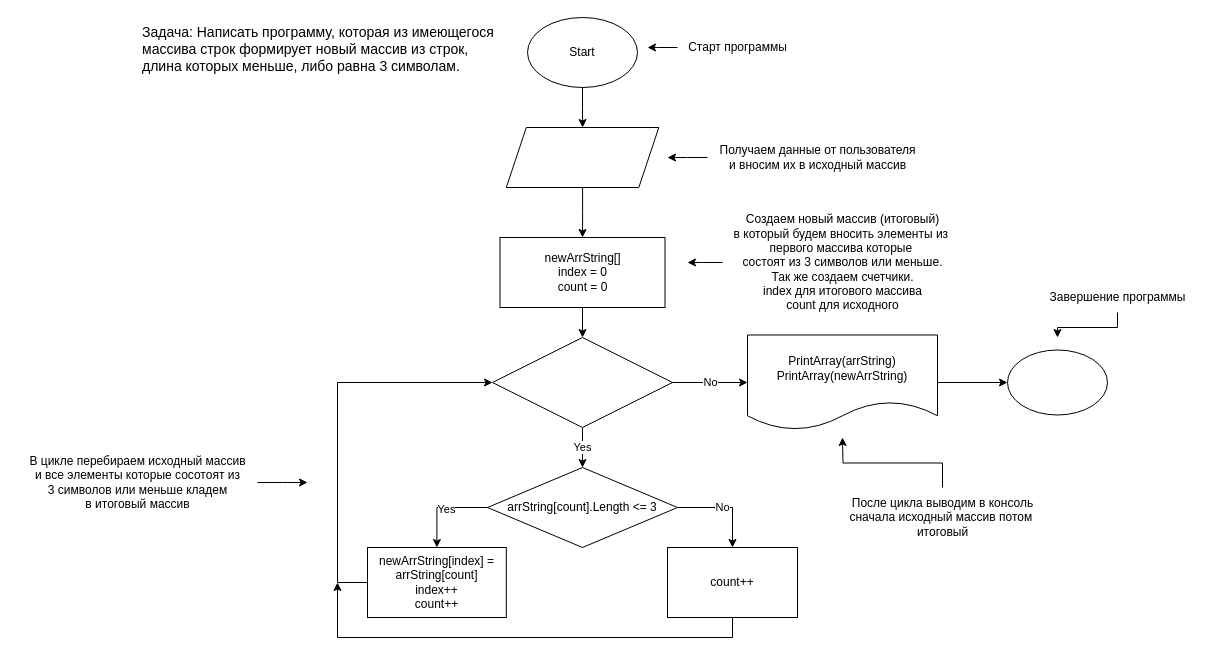
This 1214x663 diagram has some shape labels left out. The shapes that lost their labels are listed below. From the top down, each one's centre as x and y in pixels, then its label:
At point 582,157: "arrString[]".
At point 582,382: "count < arrString.Length".
At point 1057,382: "End".
